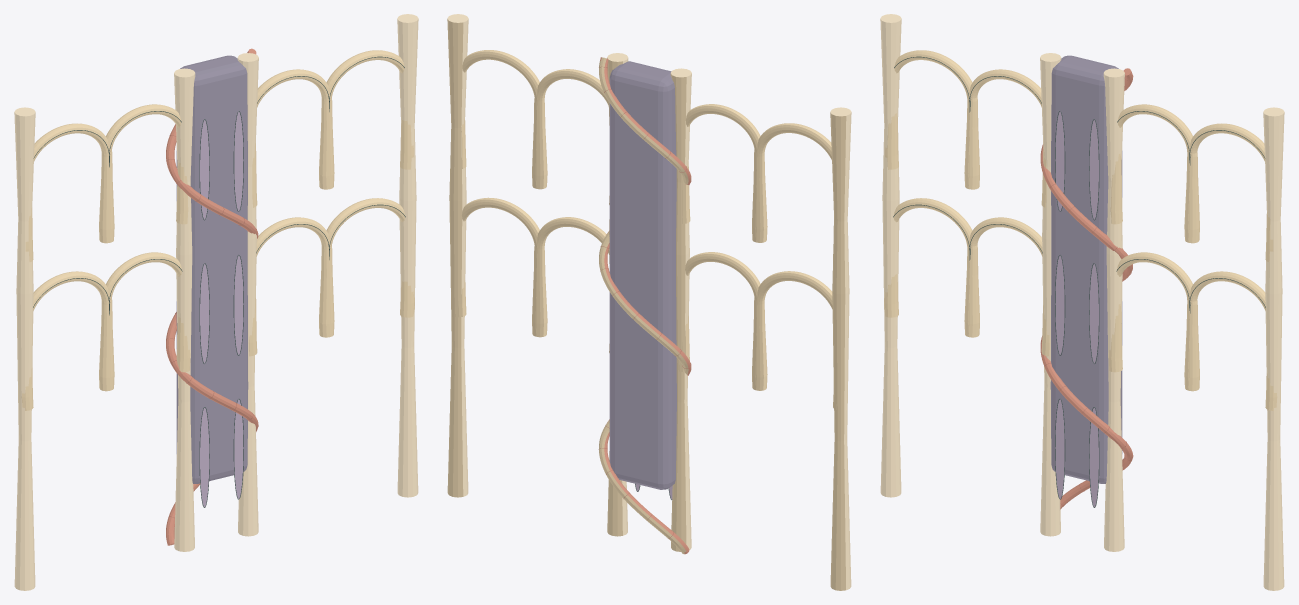
The model's file is tower-spine-v2.glb.
The picture shows the model from 3 angles, left to right: view 1: azimuth 30°, elevation 25°; view 2: azimuth 150°, elevation 25°; view 3: azimuth 330°, elevation 25°; orthographic projection.
Visible parts, largest first — view 1: TG02_SPINE; view 2: TG02_SPINE; view 3: TG02_SPINE.
Boxes of the visible parts, left/top/right/bottom form: TG02_SPINE: left=14, top=14, right=418, bottom=590; TG02_SPINE: left=447, top=14, right=851, bottom=590; TG02_SPINE: left=880, top=14, right=1284, bottom=590.
Size of the model in its own units: 20.44 by 23.22 by 2.51.
